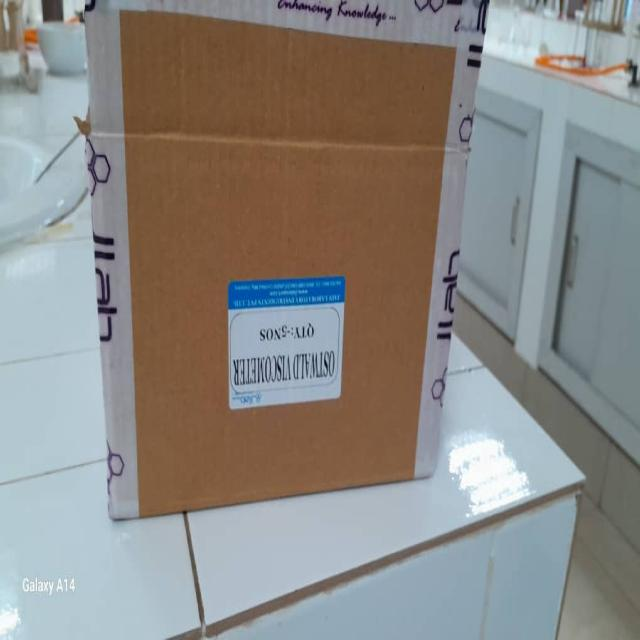Ostwald Viscometer: (106, 211, 446, 506)
